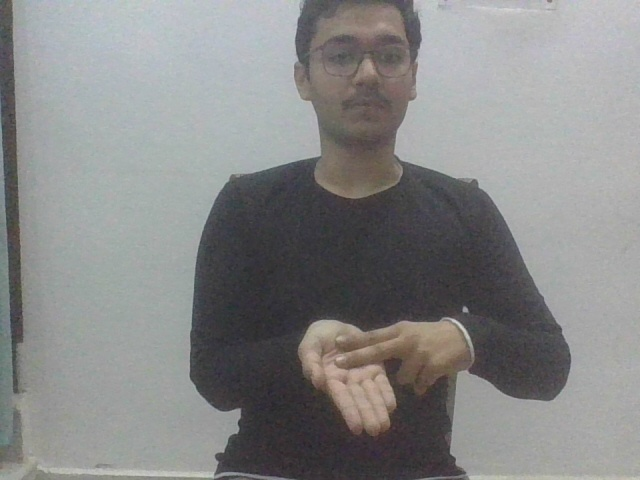N: (293, 312, 477, 442)
